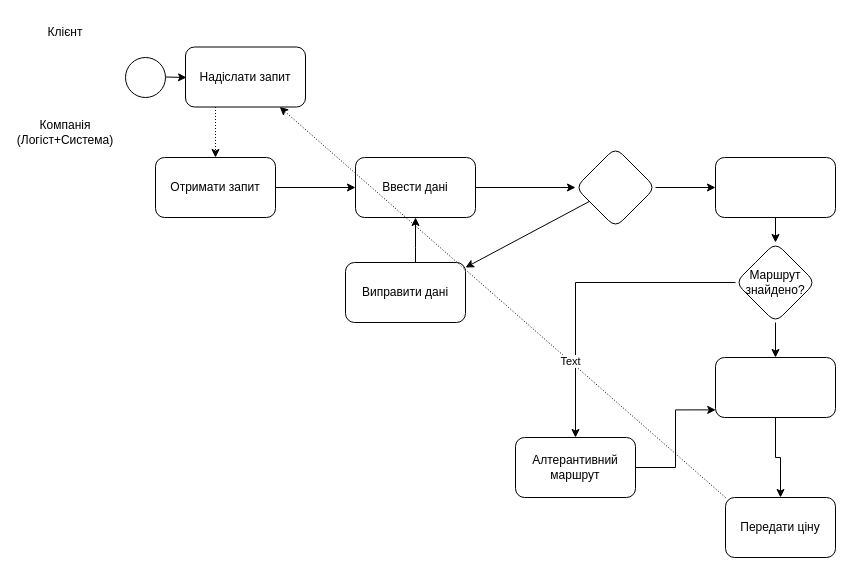
This 853x575 diagram has some shape labels left out. The centre of each missing label's shape, as x and y in pixels:
"Дані Ок?" belongs at (615,187).
"Пошук маршруту" belongs at (775,187).
"Розрахунок" belongs at (775,387).
